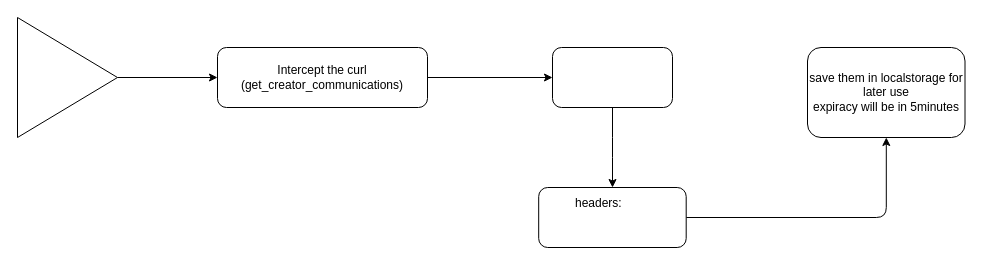
Some shapes in this 983 by 265 pixel diagram are drawn without their labels. Each missing label, with the centre of its shape:
"extract necessary parameters of curl" goes at [612,77].
"When Page loads" goes at [67,77].
